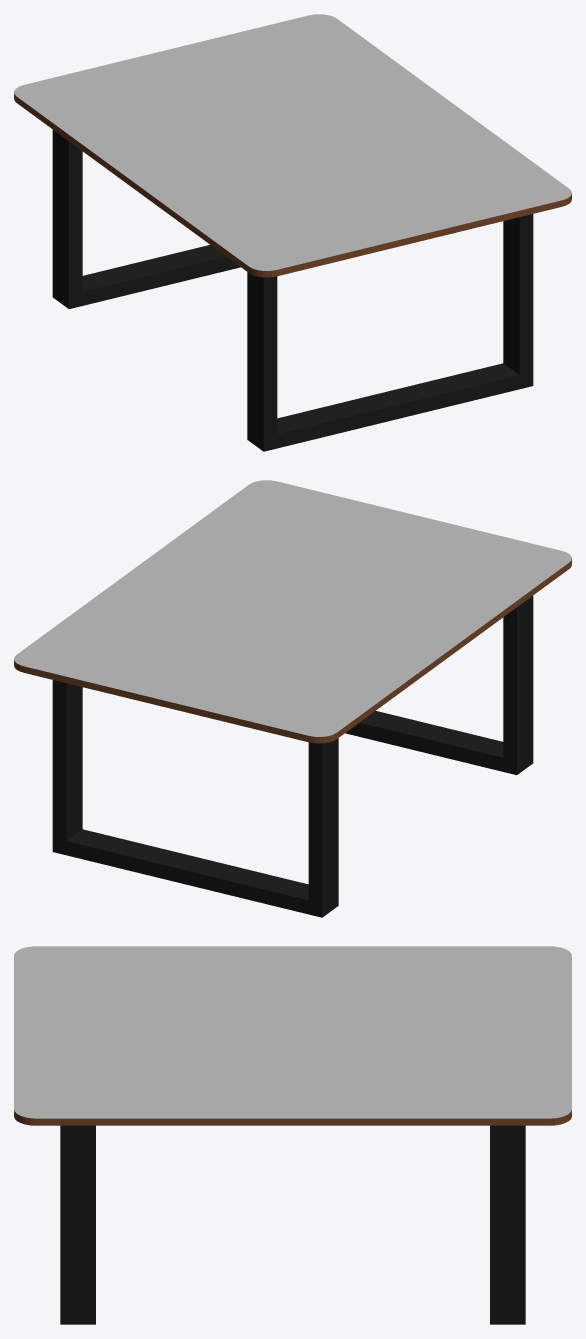
Rendered from bancorealista 1.fbx.
The picture shows the model from 3 angles, top to bottom: view 1: azimuth 30°, elevation 25°; view 2: azimuth 150°, elevation 25°; view 3: azimuth 270°, elevation 25°; orthographic projection. The views are drawn at different scales.
Visible parts, largest first — view 1: Cube; view 2: Cube; view 3: Cube.
Boxes of the visible parts, bbox=[...] form: Cube: bbox=[14, 14, 571, 451]; Cube: bbox=[14, 480, 571, 917]; Cube: bbox=[14, 946, 571, 1324].
Bounding box in the file's own units: 693 × 412 × 949.
